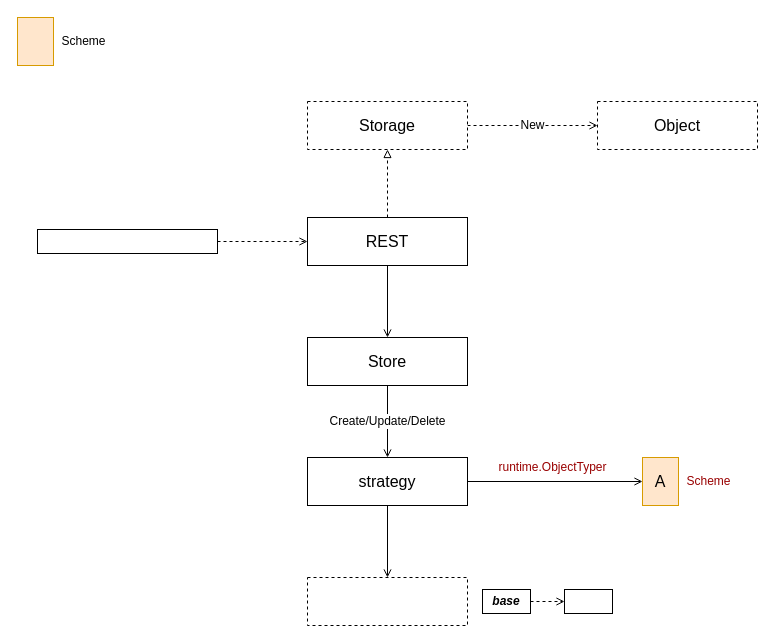
This 775x643 diagram has some shape labels left out. The centre of each missing label's shape, as x and y in pixels:
customresourcedefinitions: point 127,241
name: point 588,601
NameGenerator: point 387,601
